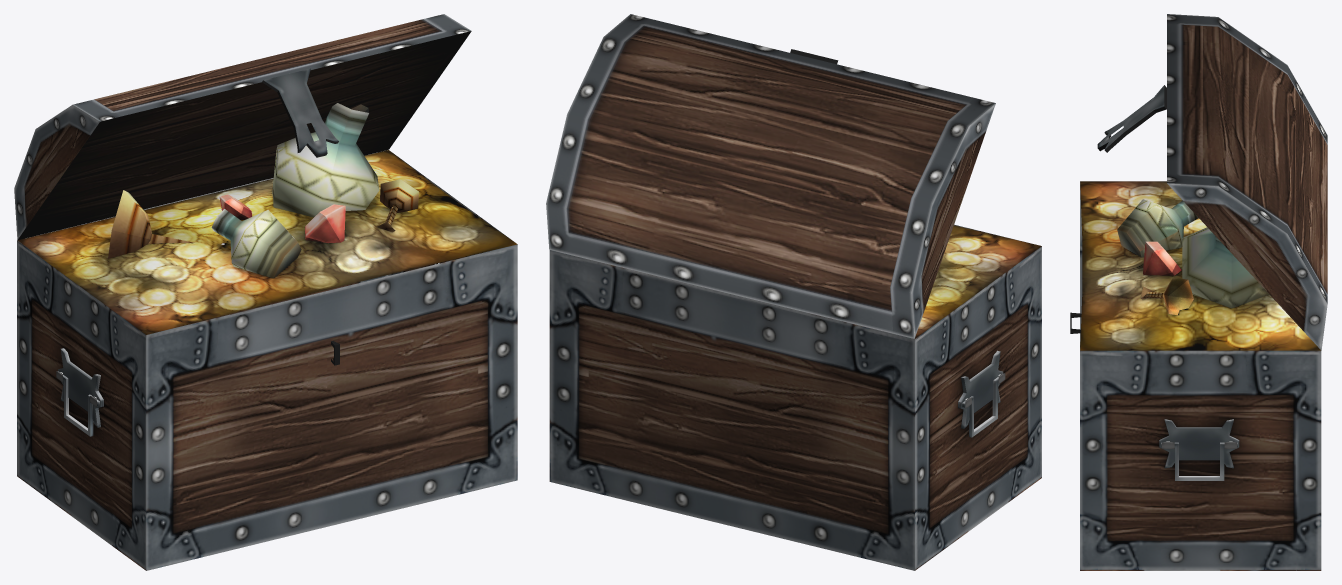
Rendered from MedievalChest_03_open.fbx.
3 views of the same model, side by side, from view 1: azimuth 30°, elevation 25°; view 2: azimuth 150°, elevation 25°; view 3: azimuth 270°, elevation 25° (orthographic). The views are drawn at different scales.
Parts seen in each view (by area): view 1: Medieval_chest_03_open, Truesure_03; view 2: Medieval_chest_03_open, Truesure_03; view 3: Medieval_chest_03_open, Truesure_03.
Boxes of the visible parts, x1,y1,x2,y2 form: Medieval_chest_03_open: (14,14,517,570); Truesure_03: (18,103,517,334); Medieval_chest_03_open: (546,14,1041,570); Truesure_03: (915,225,1041,338); Medieval_chest_03_open: (1070,14,1327,570); Truesure_03: (1080,181,1320,350).
Bounding box in the file's own units: 34.77 × 36.3 × 21.66.
